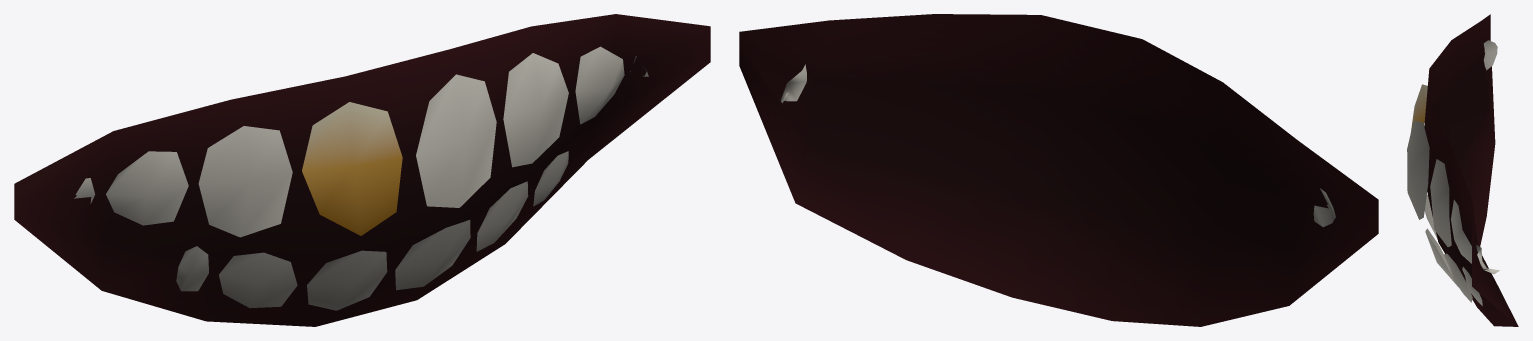
File: tooth_gold_female_lo.glb
3 views of the same model, side by side, from view 1: azimuth 30°, elevation 25°; view 2: azimuth 150°, elevation 25°; view 3: azimuth 270°, elevation 25° (orthographic). The views are drawn at different scales.
Parts seen in each view (by area): view 1: tooth_gold_female_lo; view 2: tooth_gold_female_lo; view 3: tooth_gold_female_lo.
Part boxes in pixels (bbox=[...]): tooth_gold_female_lo: bbox=[14, 14, 710, 326]; tooth_gold_female_lo: bbox=[739, 14, 1378, 326]; tooth_gold_female_lo: bbox=[1407, 14, 1518, 326].
Size of the model in its own units: 0.1198 by 0.0459 by 0.023.
